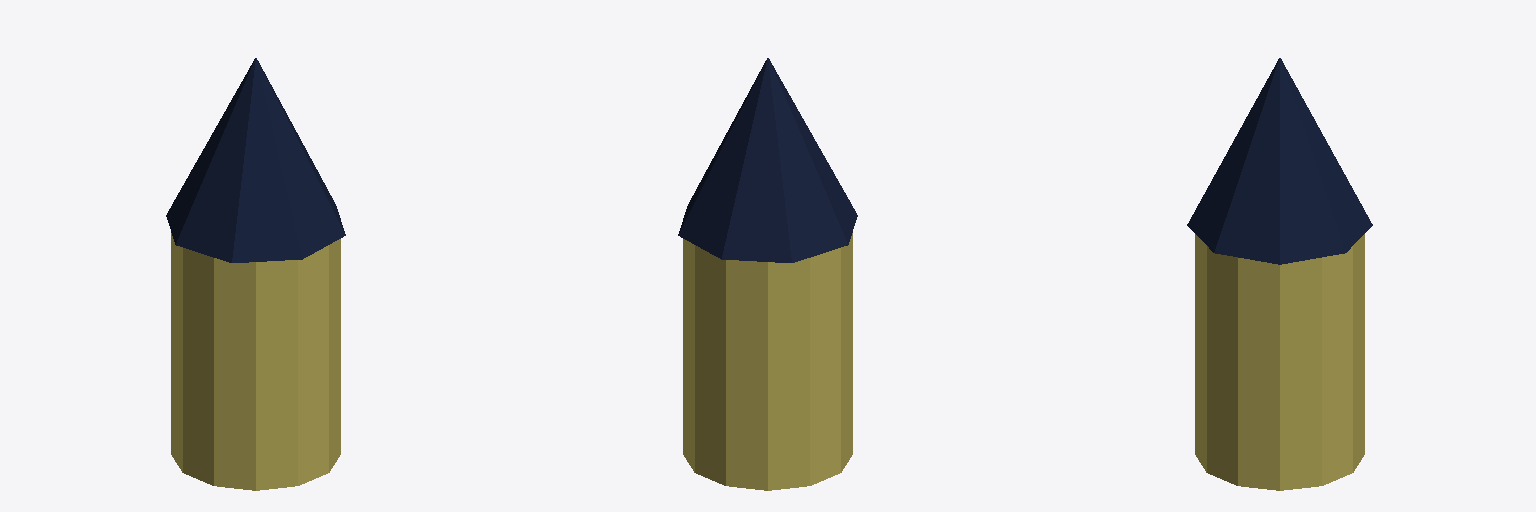
File: tower.obj
3 renders of one model, left to right at view 1: azimuth 30°, elevation 25°; view 2: azimuth 150°, elevation 25°; view 3: azimuth 270°, elevation 25°, orthographic.
Visible parts, largest first — view 1: Cylinder_Cylinder.001, Cone; view 2: Cylinder_Cylinder.001, Cone; view 3: Cylinder_Cylinder.001, Cone.
Part boxes in pixels (x1,y1,x2,y2): Cylinder_Cylinder.001: (171, 233, 340, 490); Cone: (166, 58, 345, 262); Cylinder_Cylinder.001: (683, 233, 852, 490); Cone: (678, 58, 857, 262); Cylinder_Cylinder.001: (1195, 234, 1364, 490); Cone: (1187, 58, 1372, 264).
Bounding box in the file's own units: 141 × 333 × 141.